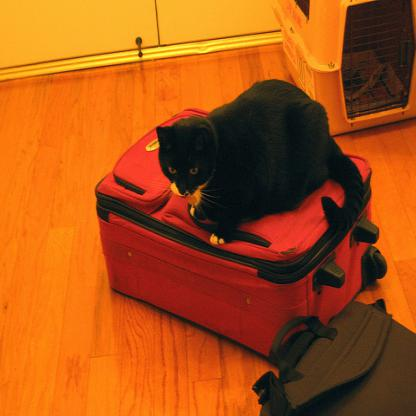suitcase: (95, 106, 386, 363)
